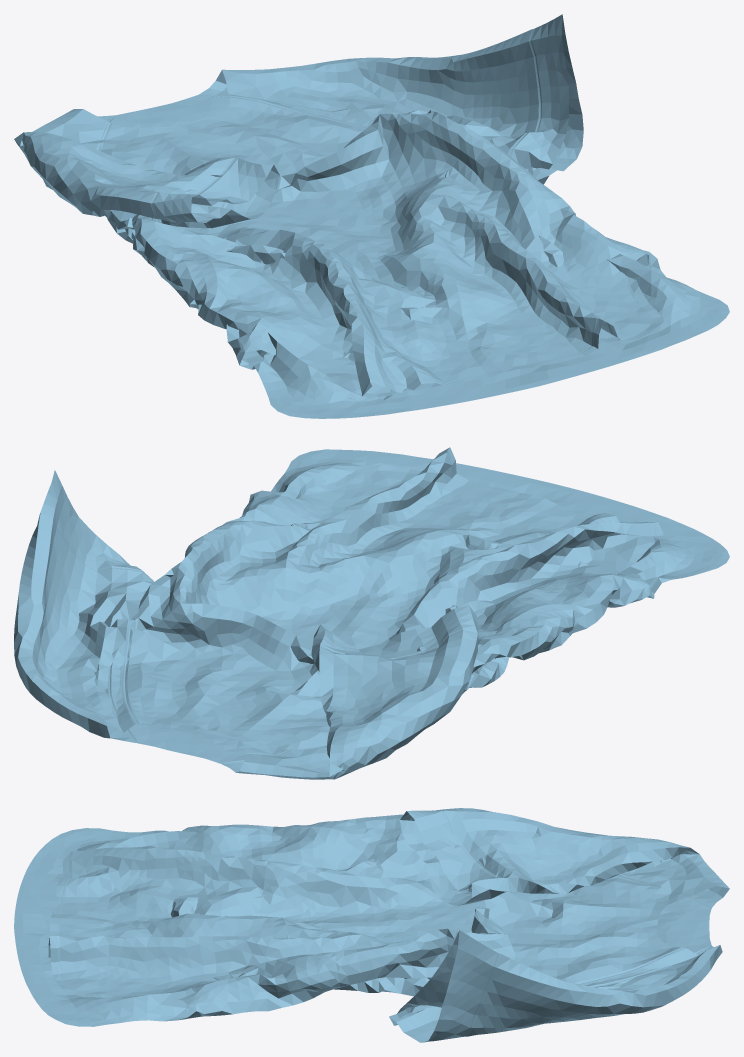
File: frame_05.glb
The picture shows the model from 3 angles, top to bottom: view 1: azimuth 30°, elevation 25°; view 2: azimuth 150°, elevation 25°; view 3: azimuth 270°, elevation 25°; orthographic projection. The views are drawn at different scales.
Parts seen in each view (by area): view 1: frame_05.obj; view 2: frame_05.obj; view 3: frame_05.obj.
Boxes of the visible parts, left/top/right/bottom form: frame_05.obj: left=14, top=14, right=729, bottom=418; frame_05.obj: left=14, top=447, right=729, bottom=779; frame_05.obj: left=14, top=808, right=729, bottom=1042.
Bounding box in the file's own units: 1.33 × 0.3456 × 1.81.
